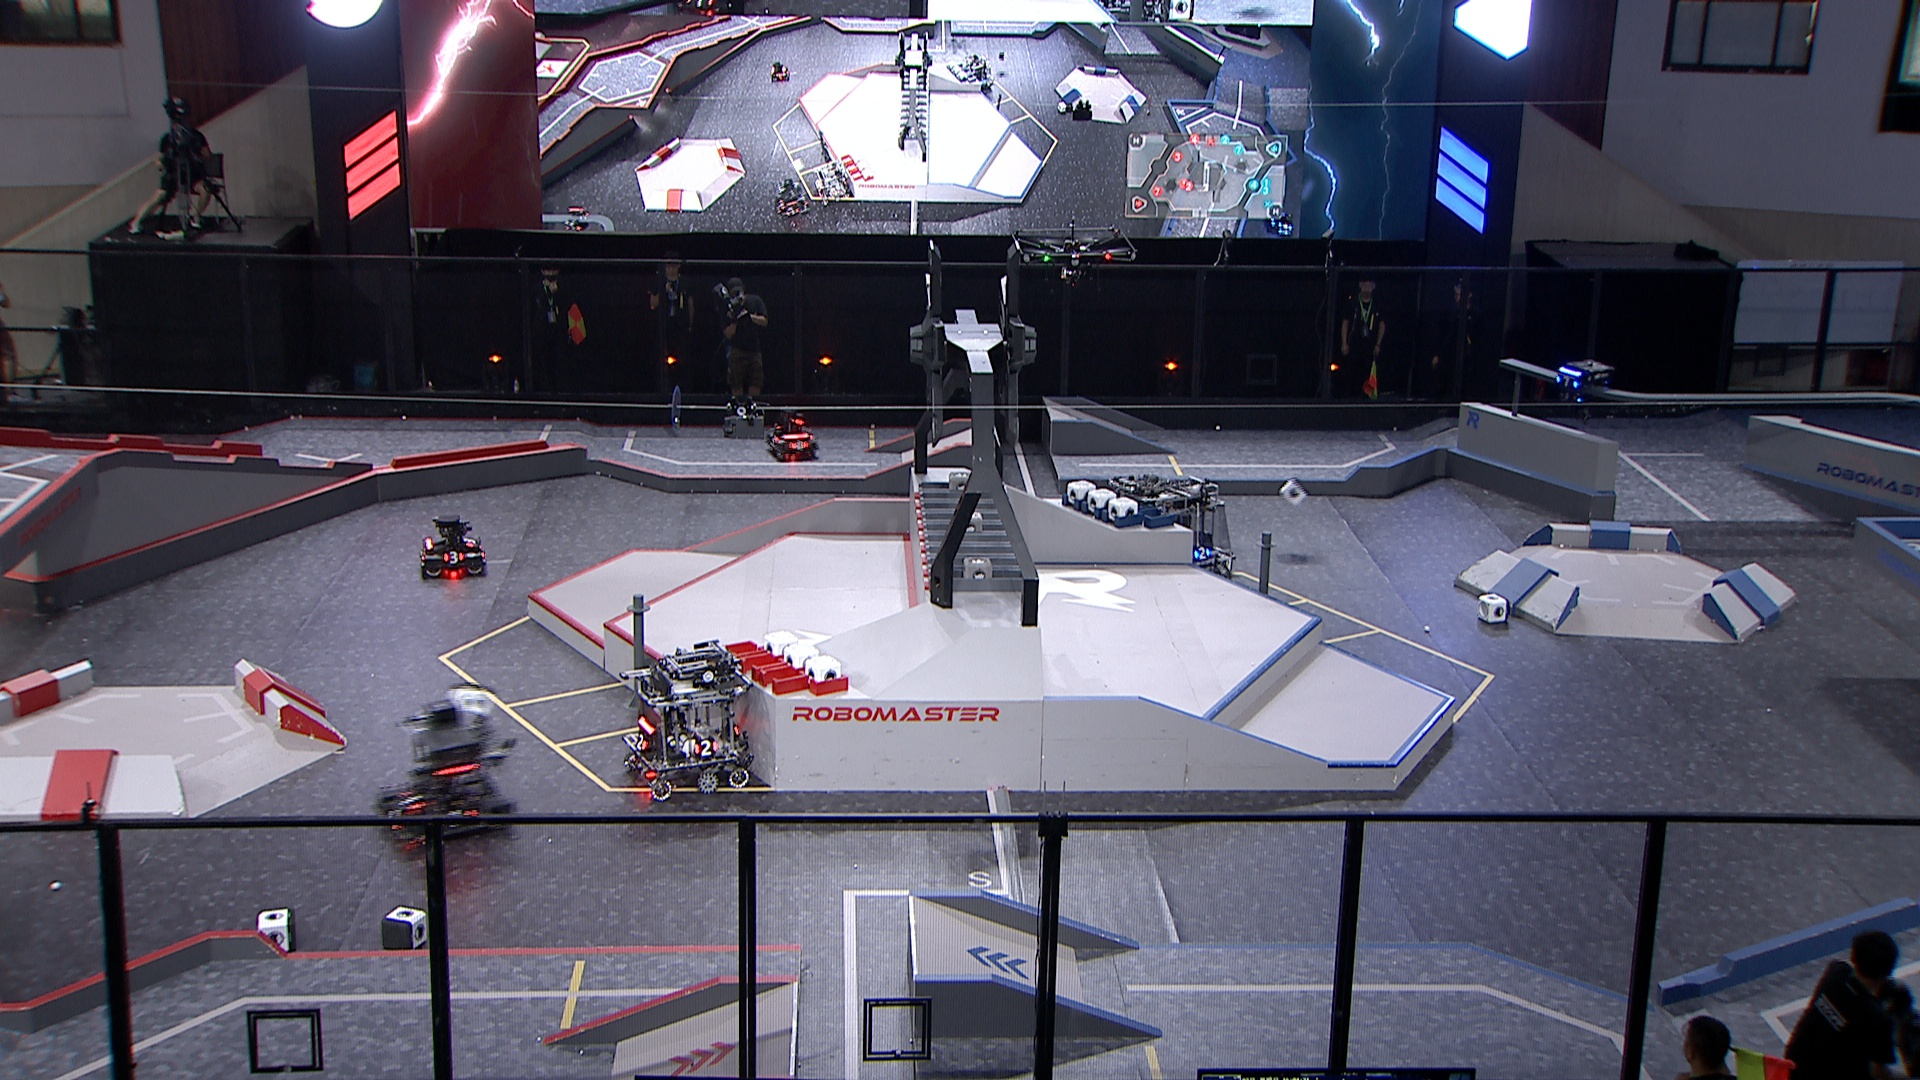armor: (381, 802, 406, 835), (439, 808, 477, 827), (694, 740, 721, 756), (400, 785, 419, 804), (1556, 375, 1578, 392), (463, 529, 477, 551), (789, 438, 811, 451), (632, 731, 647, 749), (442, 553, 463, 564), (1195, 547, 1212, 560), (767, 431, 782, 446), (418, 549, 429, 564)
car: (615, 638, 756, 798), (371, 698, 516, 849), (1110, 465, 1230, 591), (415, 510, 487, 578), (764, 406, 822, 465)
ignore: (814, 160, 858, 208), (774, 174, 812, 218), (953, 54, 992, 92), (560, 202, 593, 232), (1265, 202, 1292, 235), (766, 61, 790, 83)
watcher: (1553, 353, 1621, 423)
